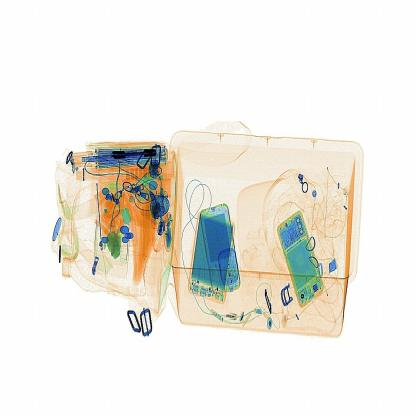knife: (103, 142, 165, 170)
